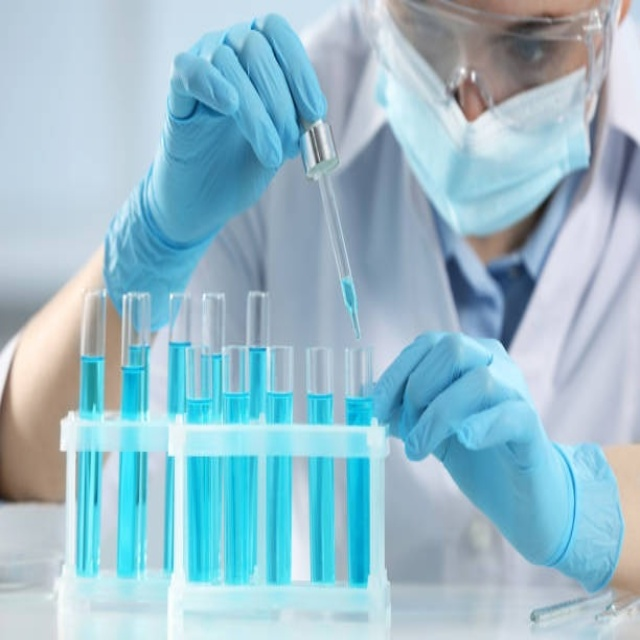Gafas: (367, 0, 622, 128)
Guantes: (104, 14, 326, 330), (367, 328, 623, 594)
Mascara: (370, 60, 604, 235)
